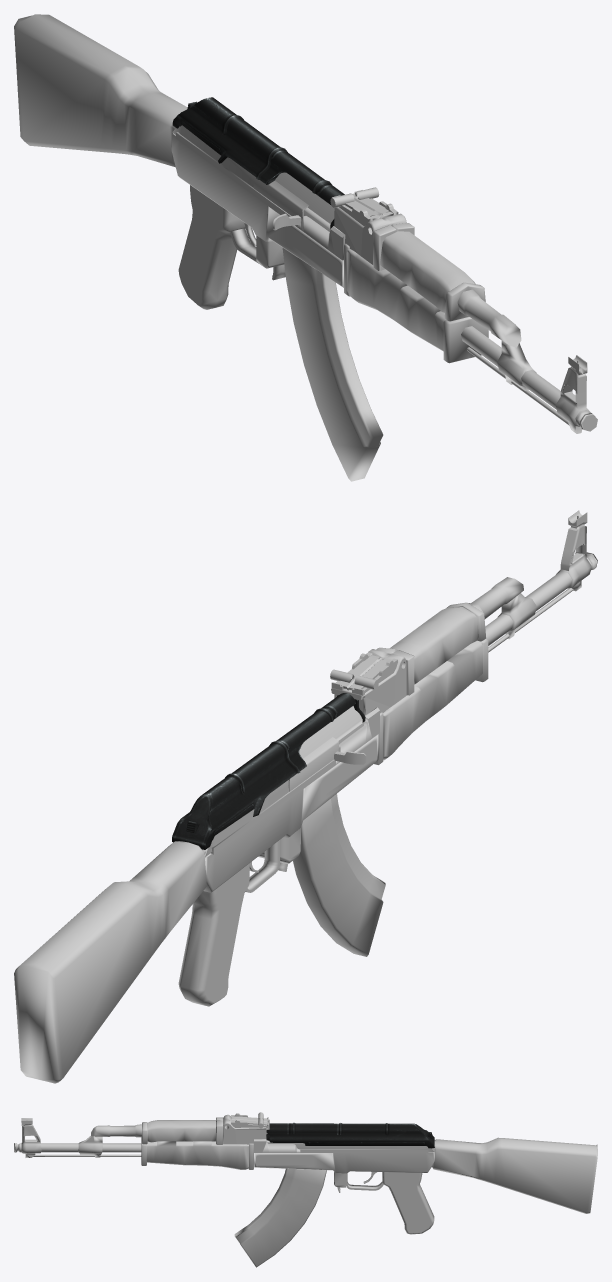
3 renders of one model, top to bottom at view 1: azimuth 30°, elevation 25°; view 2: azimuth 150°, elevation 25°; view 3: azimuth 270°, elevation 25°, orthographic. The views are drawn at different scales.
Parts seen in each view (by area): view 1: ak47_Body, ak47_mag, ak47_pasted__Mesh, ak47_Slide; view 2: ak47_Body, ak47_mag, ak47_pasted__Mesh, ak47_Slide; view 3: ak47_Body, ak47_mag, ak47_pasted__Mesh.
Boxes of the visible parts, x1,y1,x2,y2 form: ak47_Body: (14, 14, 597, 433); ak47_mag: (282, 248, 383, 481); ak47_pasted__Mesh: (172, 97, 344, 228); ak47_Slide: (253, 176, 308, 230); ak47_Body: (14, 510, 597, 1083); ak47_mag: (293, 794, 385, 956); ak47_pasted__Mesh: (172, 693, 365, 849); ak47_Slide: (288, 737, 366, 791); ak47_Body: (14, 1112, 597, 1234); ak47_mag: (234, 1168, 326, 1267); ak47_pasted__Mesh: (266, 1122, 434, 1148).
Bounding box in the file's own units: 2.1 × 8.32 × 29.49.
